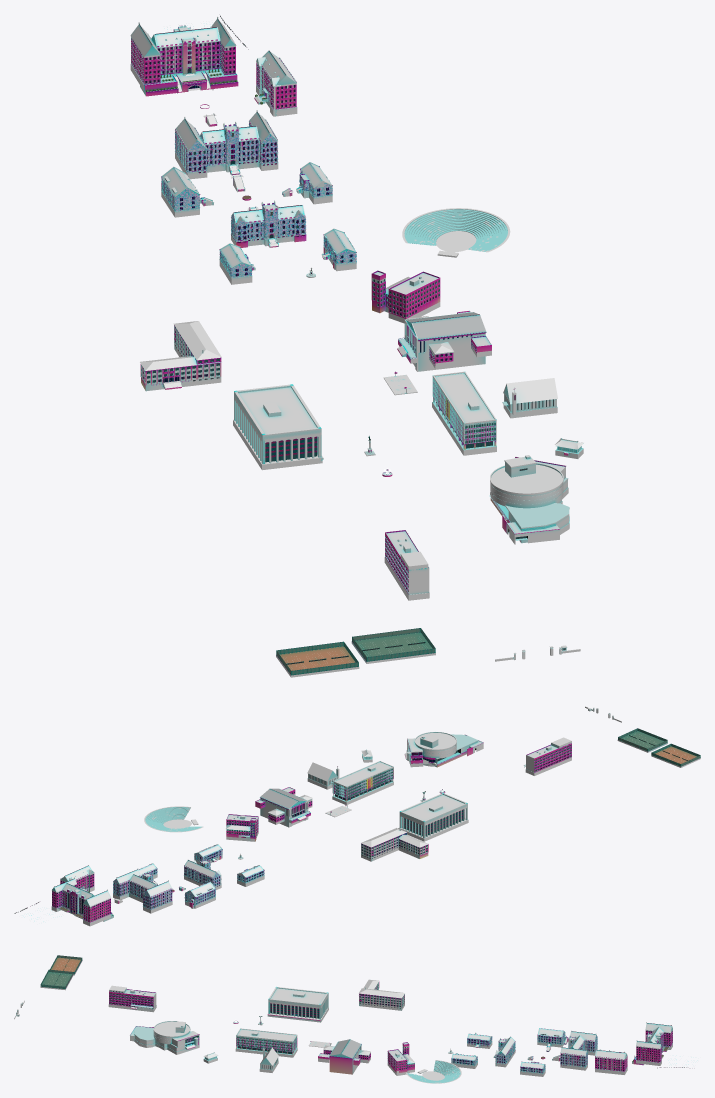
File: campus_landmarks.glb
The picture shows the model from 3 angles, top to bottom: view 1: azimuth 30°, elevation 25°; view 2: azimuth 150°, elevation 25°; view 3: azimuth 270°, elevation 25°; orthographic projection. The views are drawn at different scales.
Visible parts, largest first — view 1: lm_library, lm_auditorium, lm_centennial, lm_amphitheater, lm_union, lm_kwangbok, lm_daewoo, lm_daewoo_pavilions, lm_yeonhui_pavilions, lm_tennis_1, lm_tennis_0, lm_underwood (+12 smaller); view 2: lm_library, lm_union, lm_auditorium, lm_kwangbok, lm_centennial, lm_daewoo_pavilions, lm_amphitheater, lm_yeonhui_pavilions, lm_engineering_fac, lm_tennis_1, lm_tennis_0, lm_underwood (+10 smaller); view 3: lm_library, lm_union, lm_auditorium, lm_centennial, lm_kwangbok, lm_daewoo_pavilions, lm_yeonhui_pavilions, lm_amphitheater, lm_daewoo_annex, lm_engineering_fac, lm_tennis_1, lm_gyoyuk (+12 smaller).
Boxes of the visible parts, x1=… form: lm_library: x1=233, y1=384, x2=323, y2=470; lm_auditorium: x1=397, y1=310, x2=491, y2=371; lm_centennial: x1=489, y1=463, x2=569, y2=543; lm_amphitheater: x1=402, y1=208, x2=510, y2=257; lm_union: x1=432, y1=371, x2=496, y2=455; lm_kwangbok: x1=140, y1=321, x2=221, y2=391; lm_daewoo: x1=151, y1=25, x2=220, y2=75; lm_daewoo_pavilions: x1=130, y1=16, x2=236, y2=91; lm_yeonhui_pavilions: x1=175, y1=110, x2=278, y2=179; lm_tennis_1: x1=351, y1=628, x2=435, y2=663; lm_tennis_0: x1=276, y1=641, x2=359, y2=677; lm_underwood: x1=231, y1=200, x2=306, y2=247; lm_library: x1=398, y1=793, x2=468, y2=841; lm_union: x1=332, y1=761, x2=393, y2=805; lm_auditorium: x1=255, y1=787, x2=312, y2=827; lm_kwangbok: x1=361, y1=828, x2=428, y2=861; lm_centennial: x1=406, y1=732, x2=478, y2=767; lm_daewoo_pavilions: x1=51, y1=877, x2=111, y2=926; lm_amphitheater: x1=144, y1=806, x2=203, y2=832; lm_yeonhui_pavilions: x1=113, y1=868, x2=172, y2=913; lm_engineering_fac: x1=526, y1=743, x2=571, y2=772; lm_tennis_1: x1=617, y1=728, x2=667, y2=752; lm_tennis_0: x1=651, y1=743, x2=700, y2=767; lm_underwood: x1=184, y1=858, x2=221, y2=889; lm_library: x1=267, y1=987, x2=328, y2=1022; lm_union: x1=235, y1=1028, x2=297, y2=1057; lm_auditorium: x1=318, y1=1039, x2=370, y2=1074; lm_centennial: x1=134, y1=1021, x2=199, y2=1054; lm_kwangbok: x1=358, y1=979, x2=404, y2=1010; lm_daewoo_pavilions: x1=636, y1=1022, x2=672, y2=1065; lm_yeonhui_pavilions: x1=560, y1=1030, x2=597, y2=1070; lm_amphitheater: x1=406, y1=1060, x2=461, y2=1083; lm_daewoo_annex: x1=595, y1=1049, x2=627, y2=1074; lm_engineering_fac: x1=109, y1=989, x2=156, y2=1009; lm_tennis_1: x1=40, y1=969, x2=73, y2=990; lm_gyoyuk: x1=537, y1=1028, x2=568, y2=1047.
Bounding box in the file's own units: 483 × 76.11 × 974.
